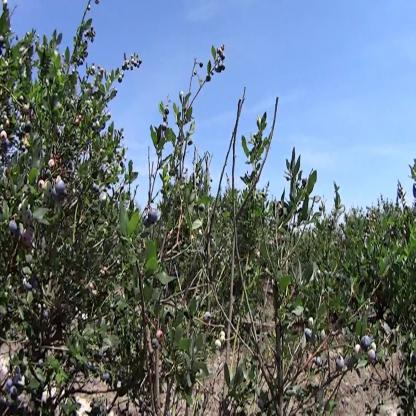mature: (146, 207, 161, 225), (10, 218, 20, 235), (361, 335, 372, 350), (57, 179, 66, 197)
young: (37, 177, 52, 202), (215, 331, 227, 354), (18, 202, 31, 223), (335, 356, 347, 374), (47, 157, 57, 172)
